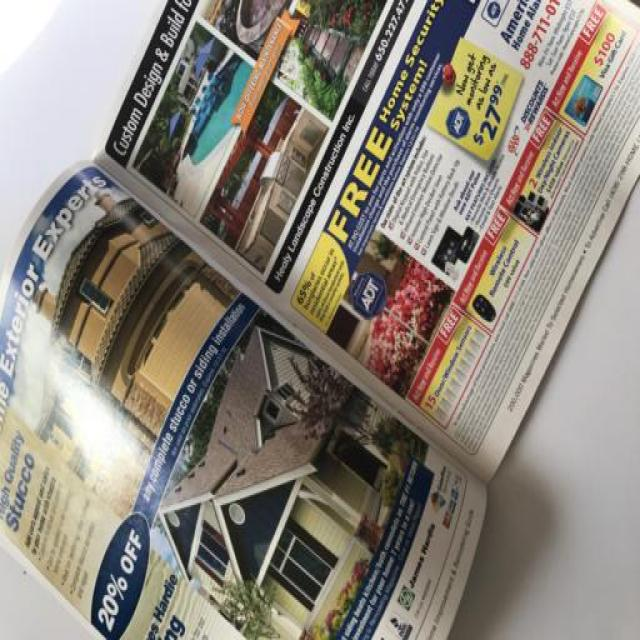paper: (3, 1, 636, 631)
